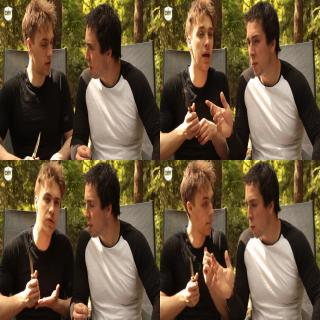knife: (179, 82, 199, 127), (24, 246, 40, 292), (184, 252, 200, 294), (26, 128, 42, 160)
